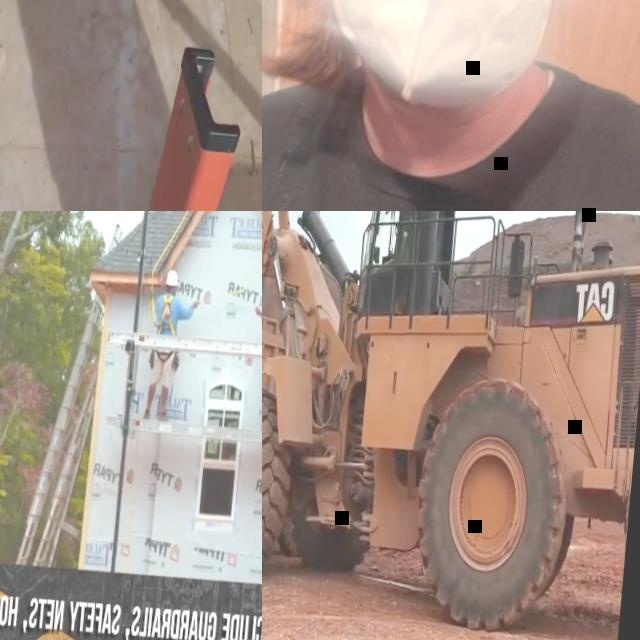Hardhat: (164, 270, 180, 286)
Mask: (299, 0, 581, 122)
NO-Mask: (173, 290, 175, 296)
NO-Safety Vest: (262, 38, 640, 211), (156, 293, 180, 336)
Person: (262, 0, 640, 211), (143, 269, 203, 424), (244, 285, 262, 432)
machinery: (262, 211, 640, 640)
